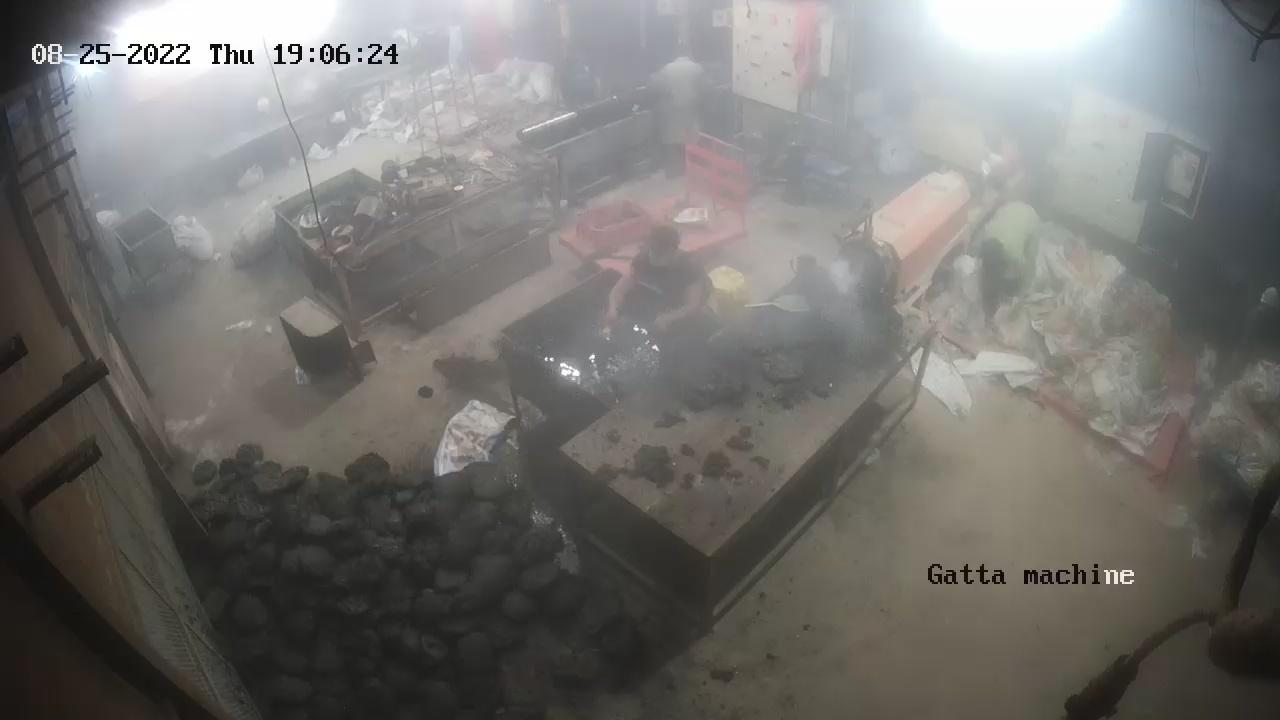person: (621, 228, 717, 343), (988, 200, 1040, 288)
